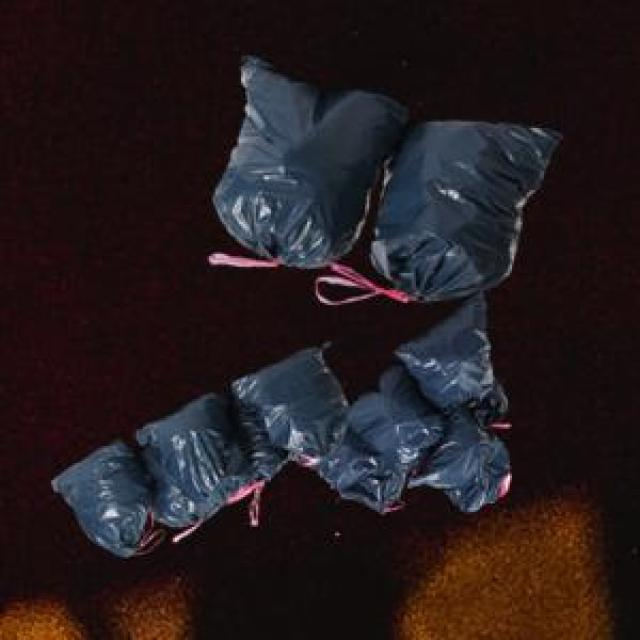miscellaneous trash: (208, 53, 557, 299), (47, 339, 344, 553), (286, 286, 506, 510)
